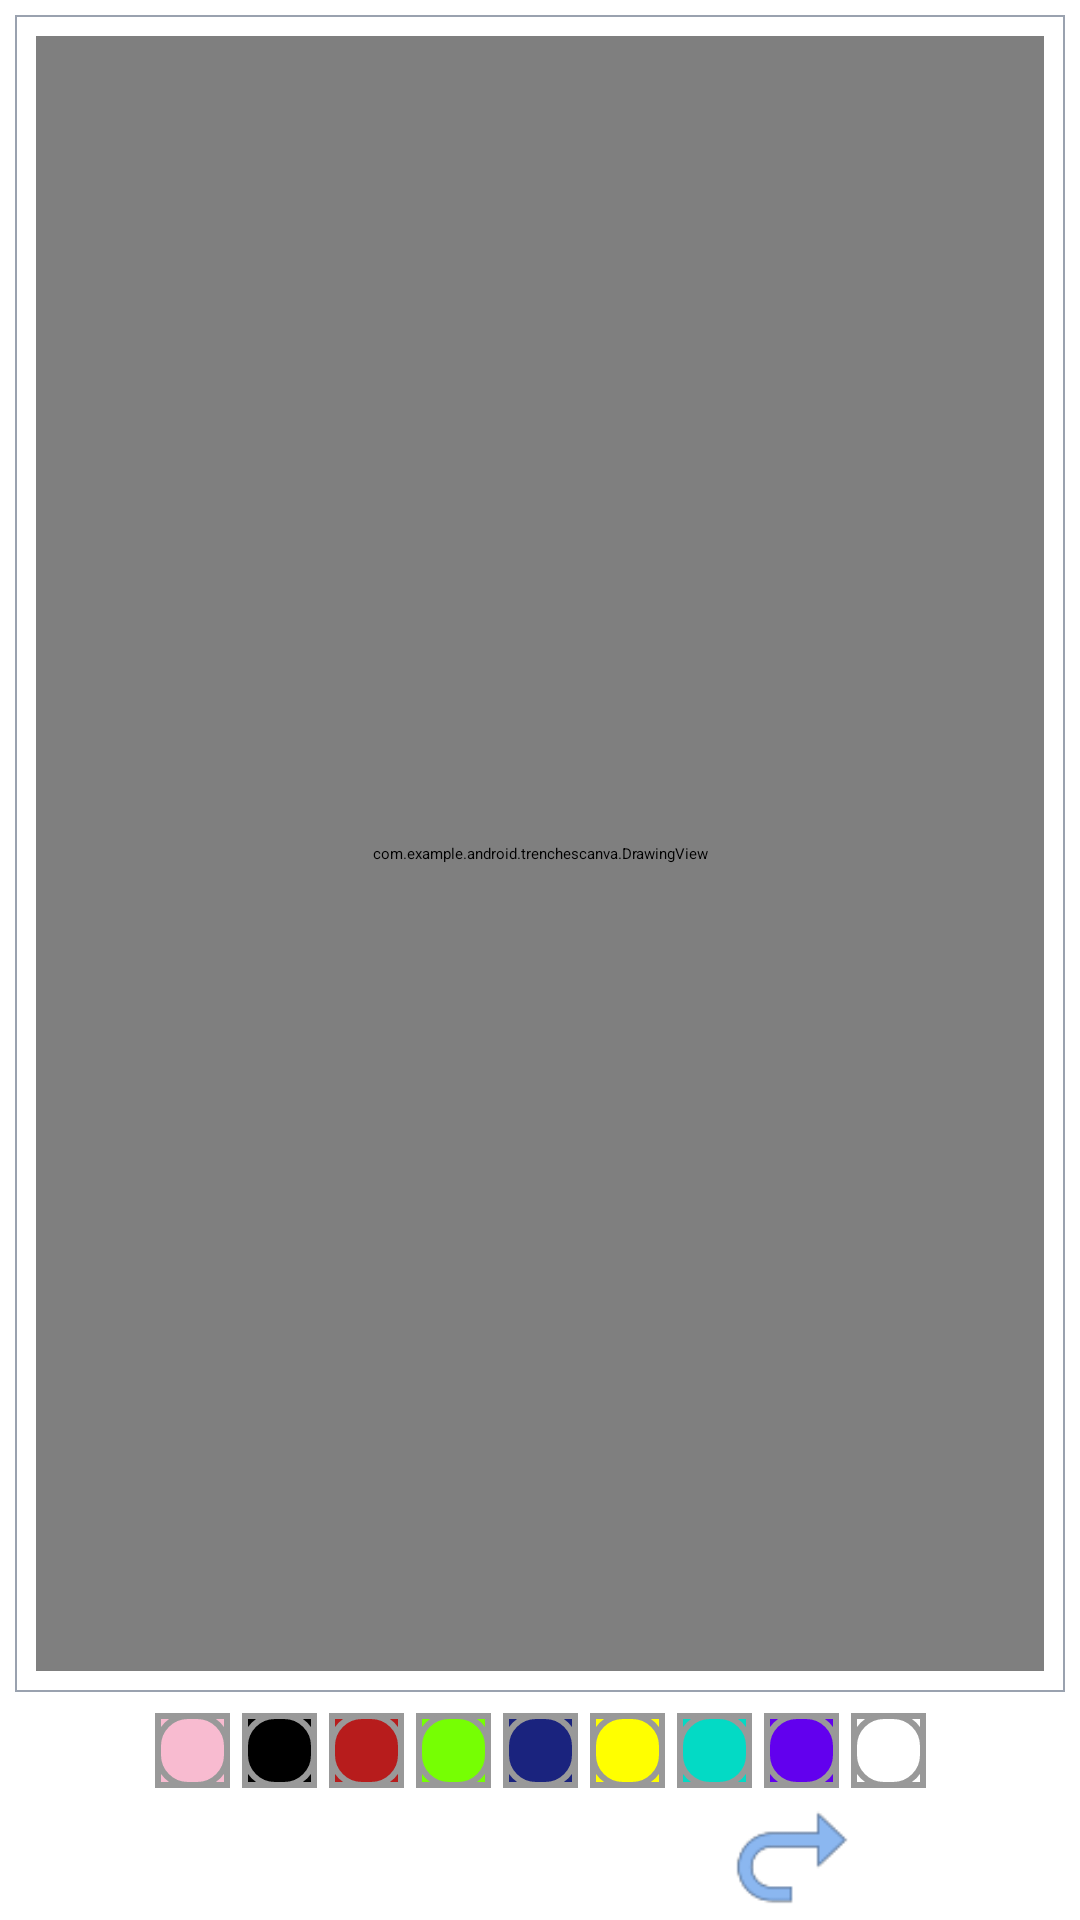

Named icons in this screenshot (1080w x 1920h) and their centers, point (x, y):
redo: point (792, 1858)
